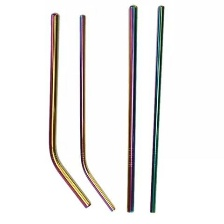drinking_straw: (39, 10, 93, 213), (74, 11, 121, 215), (144, 3, 172, 216), (120, 3, 140, 215)
